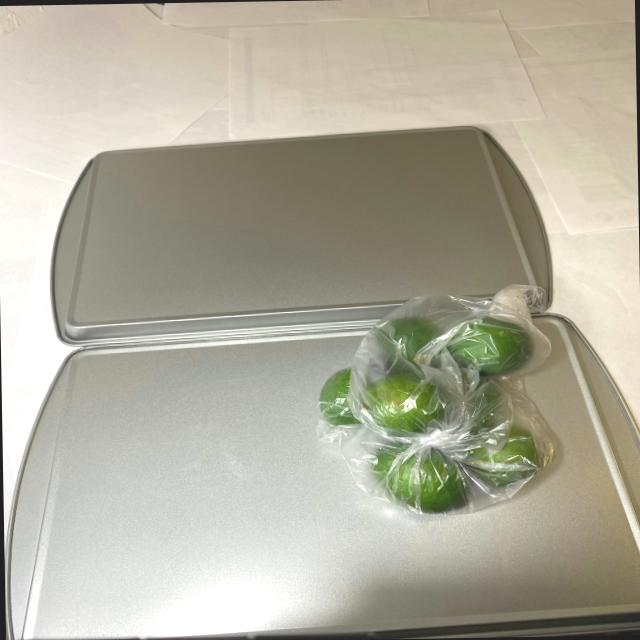lemon: (324, 309, 552, 516)
